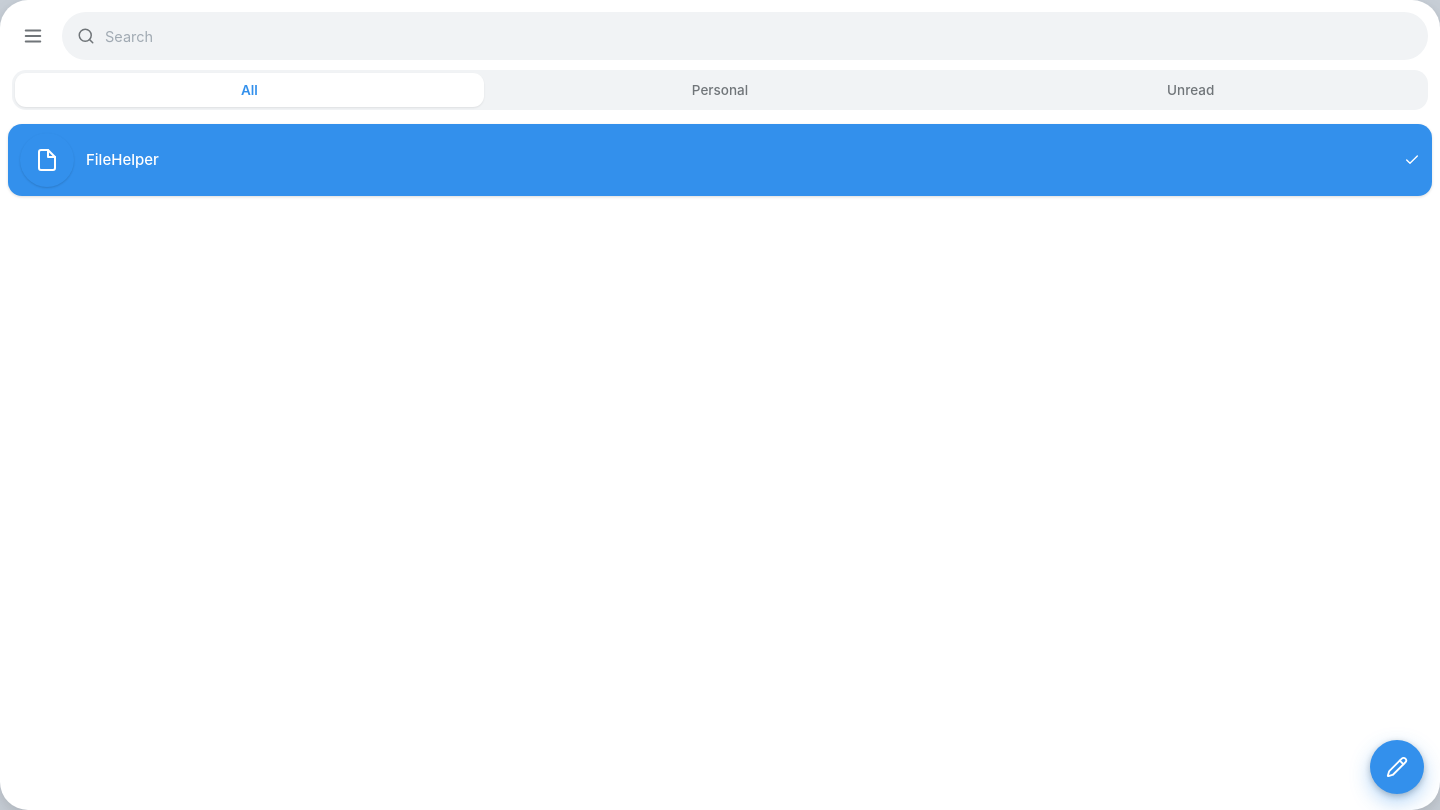
Test case: Sidebar › hamburger opens the menu
What coordinates should you click on to do the following:
click the button named "Open menu"
I would click on:
 (33, 36)
Its box is [12,15,54,57].
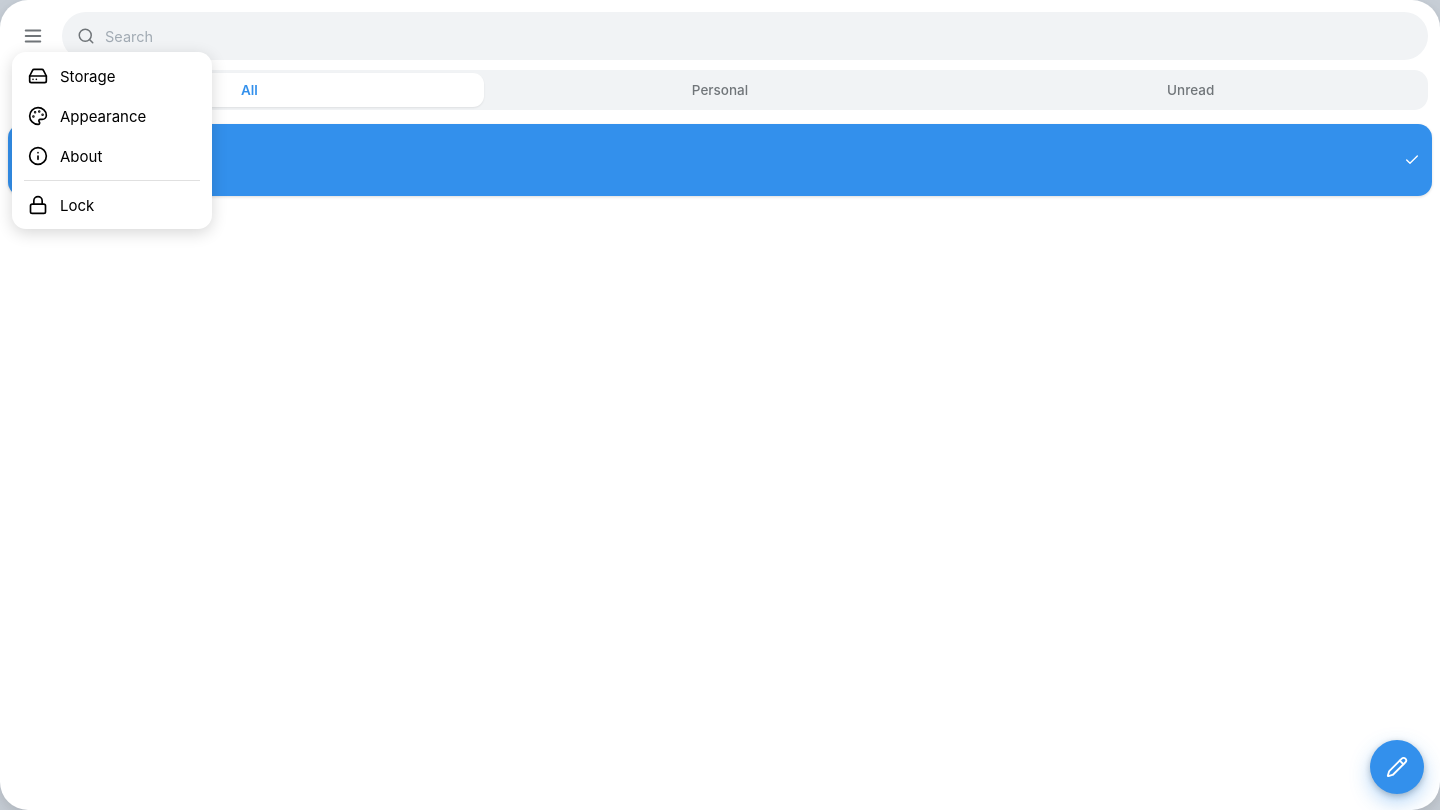
Result: the menu is shown at [12,52,212,229]
